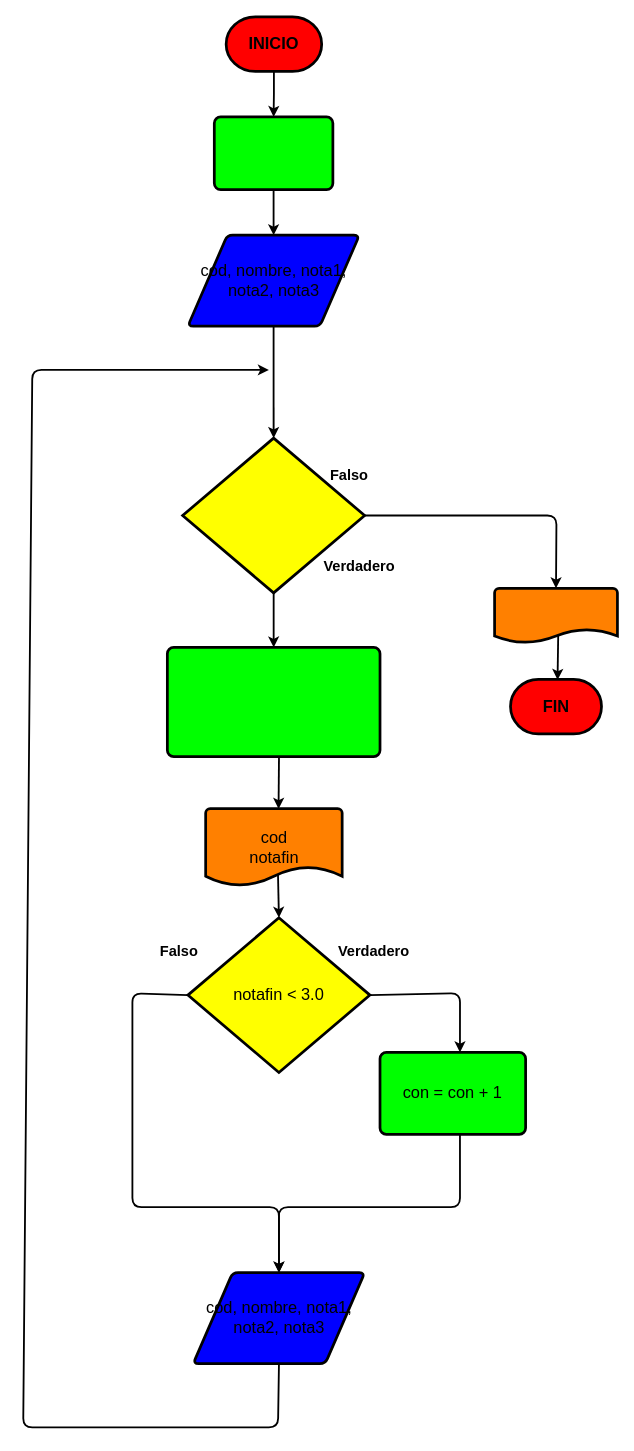
Image size: 634x1451. Some labels were removed from this diagram. Each missing label, with the box of its shape:
cod != 0: (181, 436, 366, 594)
con: (493, 586, 618, 644)
con = 0: (212, 115, 334, 191)
notafin = (nota1 + nota2 + nota3) / 3: (166, 646, 381, 758)
